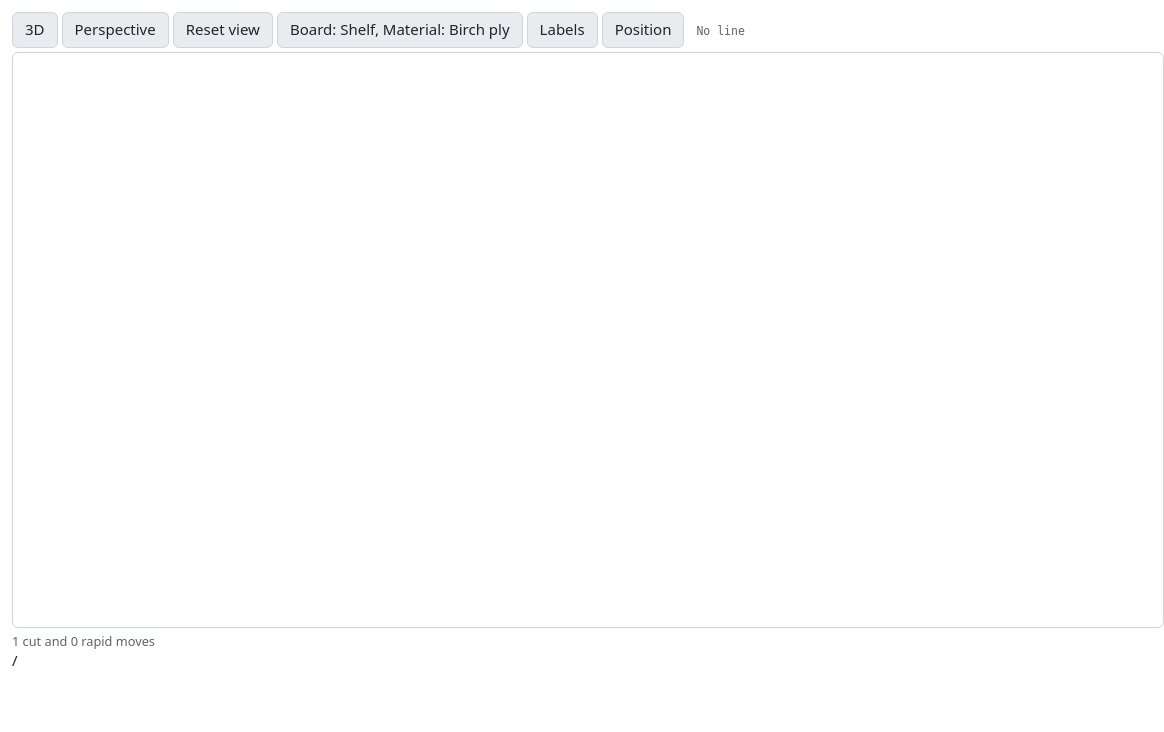
Test: Viewer placement › warns off the bed, ignores other fingers and menus, and puts the toolpath back on cancel
The width and height of the screenshot is (1164, 732).
Later steps or results of the test are not shown.
Check: the text "1 cut and 0 rapid moves" is shown, box [12,632,155,650]
Click the button "Position".
click(643, 30)  # box [602,12,684,48]
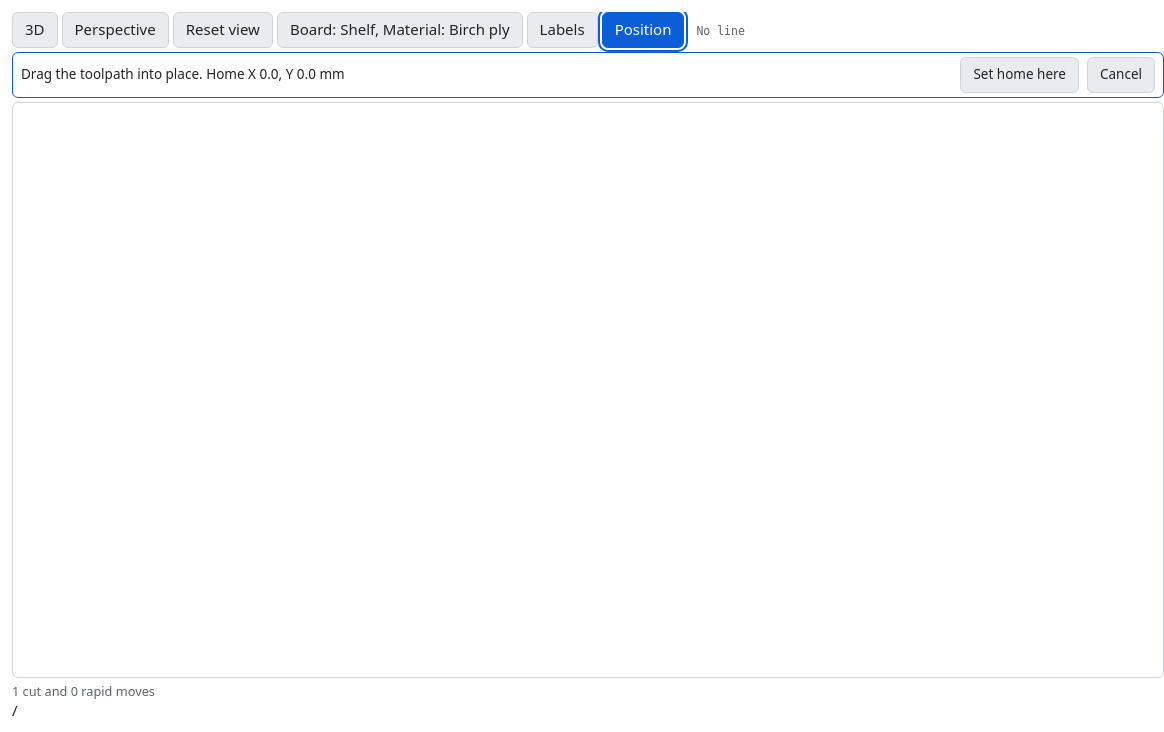
Press the mouse on the picture named "Bed, sled and toolpath" at (588, 390), box [13,103,1163,677]
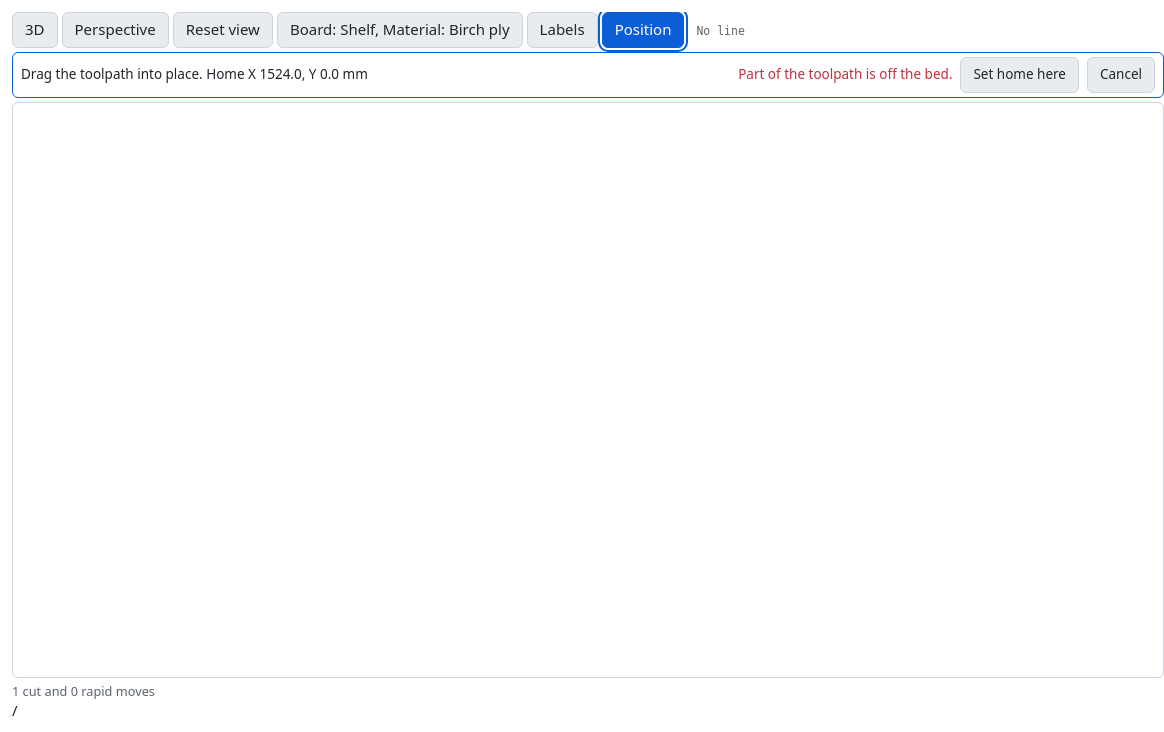
Check: the message reads "Part of the toolpath is off the bed.", box [738,65,952,83]
